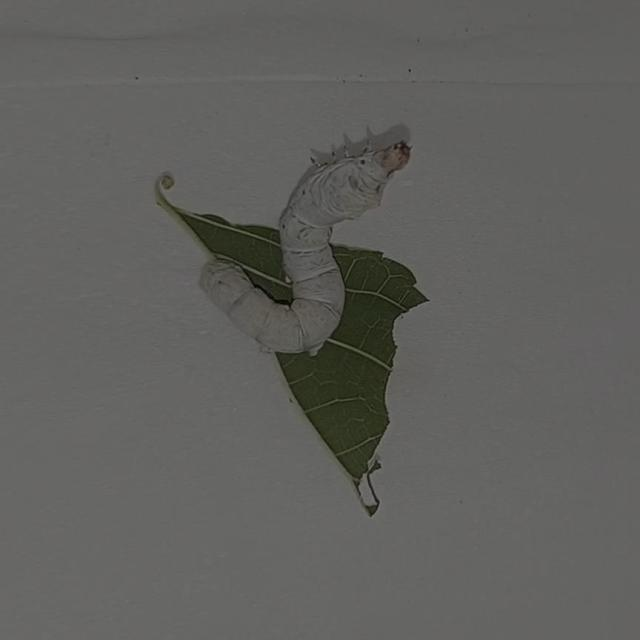Healthy: (158, 111, 478, 367)
